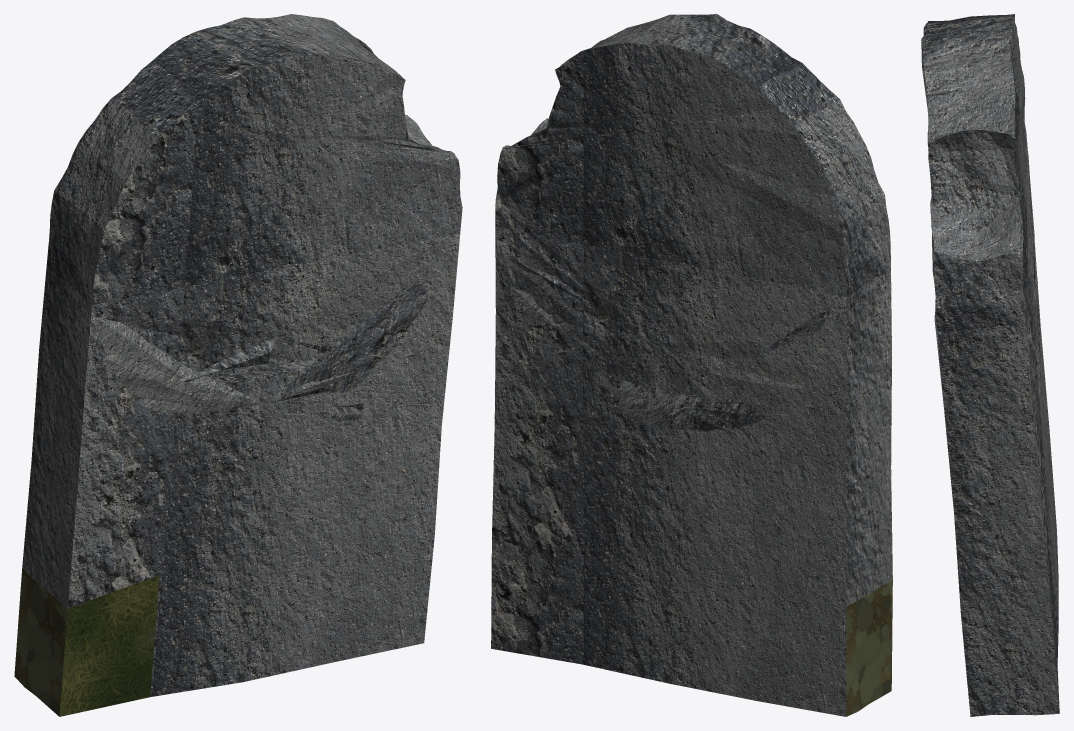
File: grave-marker-v02.glb
The picture shows the model from 3 angles, left to right: view 1: azimuth 30°, elevation 25°; view 2: azimuth 150°, elevation 25°; view 3: azimuth 270°, elevation 25°; orthographic projection. The views are drawn at different scales.
Visible parts, largest first — view 1: grave-marker; view 2: grave-marker; view 3: grave-marker.
Part boxes in pixels (x1,y1,x2,y2): grave-marker: (14,14,462,716); grave-marker: (491,14,892,716); grave-marker: (921,14,1059,716).
Bounding box in the file's own units: 0.9468 × 1.53 × 0.3148.
Materials: 2 (2 with a texture image).
